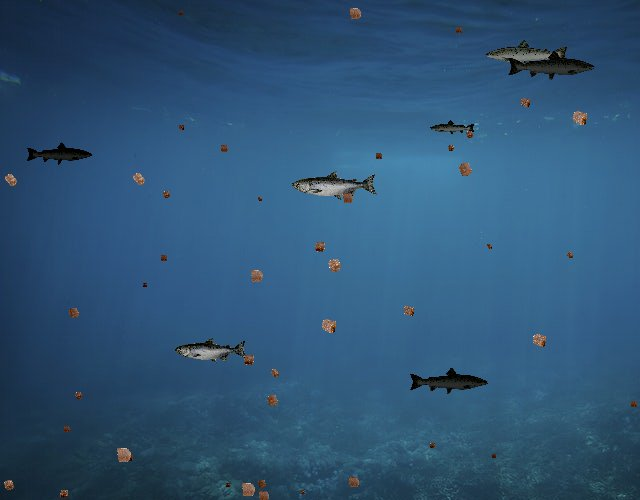Fish: (506, 49, 596, 82), (484, 38, 570, 69), (292, 170, 378, 201), (408, 367, 489, 396), (175, 338, 248, 364), (26, 141, 94, 166), (429, 119, 476, 136)
Pellet: (108, 440, 138, 470), (243, 263, 270, 290), (343, 1, 368, 26), (238, 349, 260, 371), (0, 474, 20, 496), (372, 149, 386, 163), (175, 122, 188, 135)
